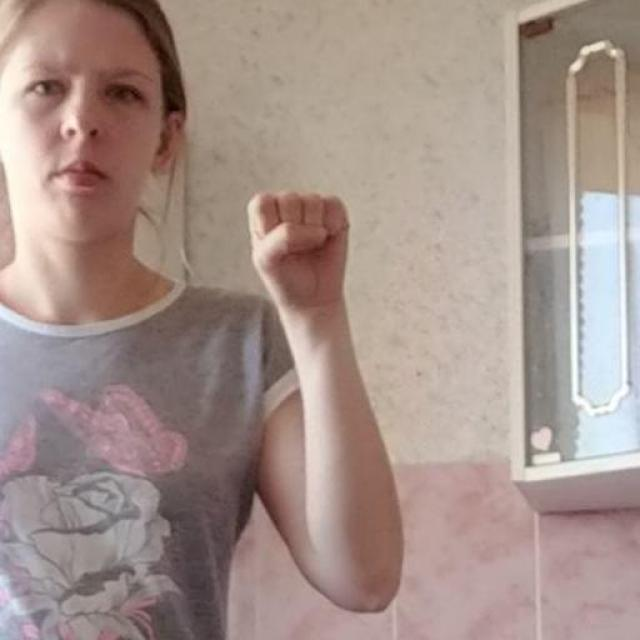hand: (246, 188, 350, 310), (0, 143, 16, 275)
